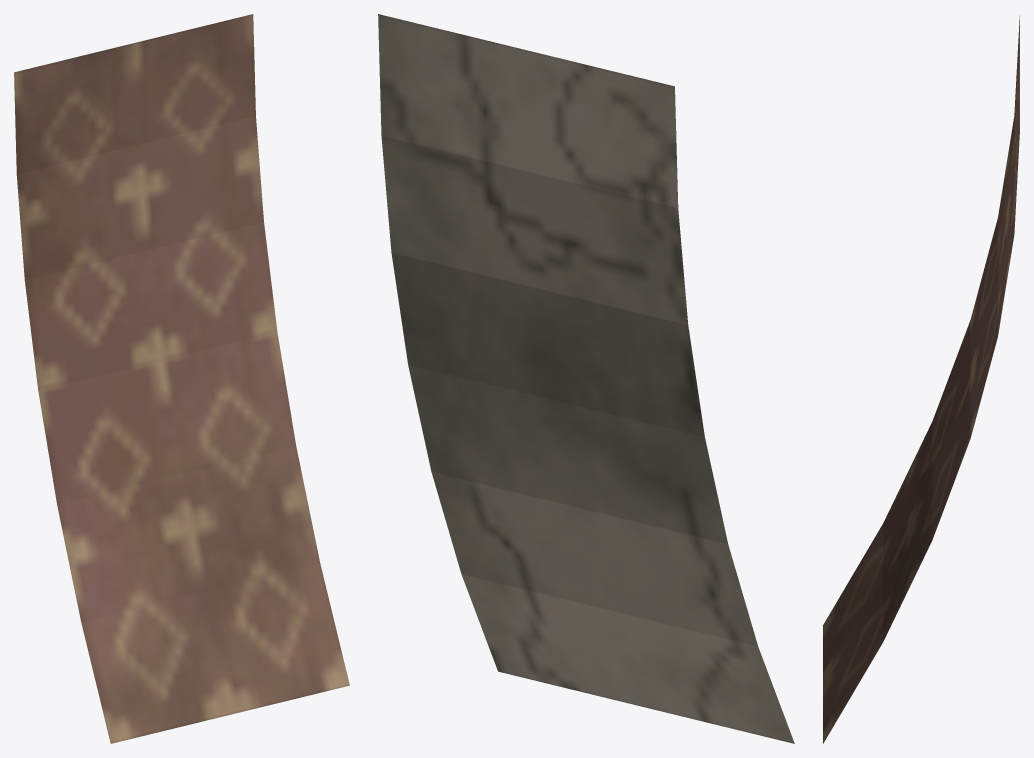
The model's file is wallpaper_peel.fbx.
3 views of the same model, side by side, from view 1: azimuth 30°, elevation 25°; view 2: azimuth 150°, elevation 25°; view 3: azimuth 270°, elevation 25° (orthographic). The views are drawn at different scales.
Visible parts, largest first — view 1: wallpaper_peel; view 2: wallpaper_peel; view 3: wallpaper_peel.
Part boxes in pixels (x1,y1,x2,y2): wallpaper_peel: [14, 14, 349, 743]; wallpaper_peel: [378, 14, 794, 743]; wallpaper_peel: [823, 15, 1019, 743].
Bounding box in the file's own units: 0.5 × 1.2 × 0.3502.
Materials: 1 (1 with a texture image).
